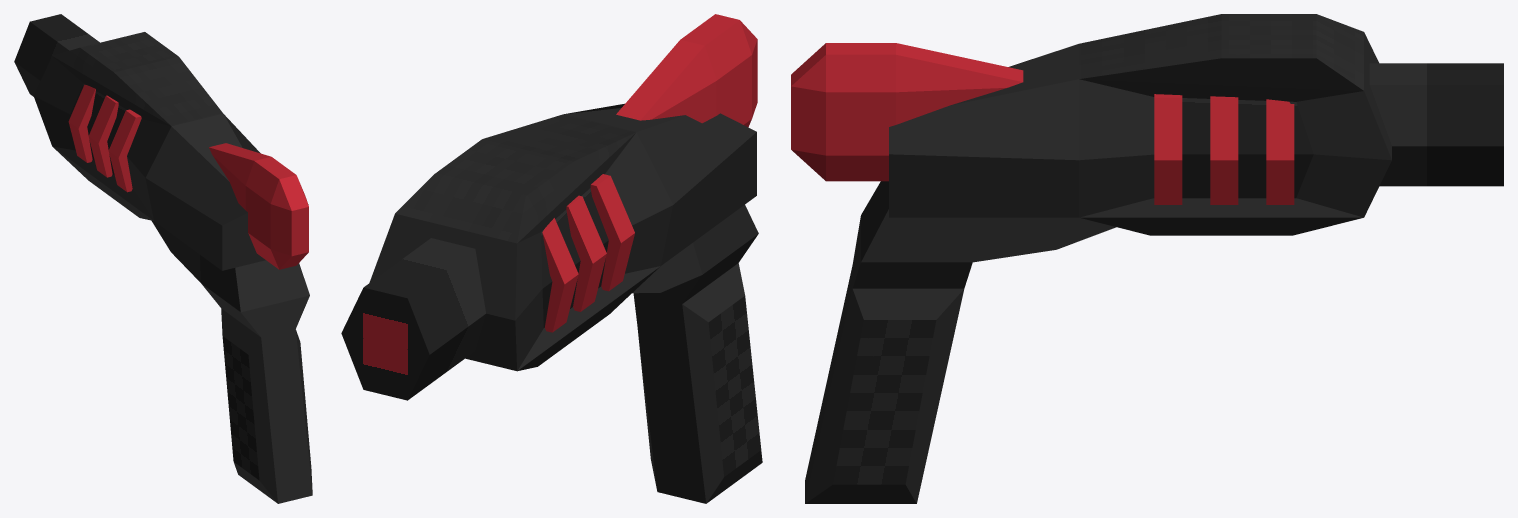
File: laser_pistol.gltf
3 views of the same model, side by side, from view 1: azimuth 30°, elevation 25°; view 2: azimuth 150°, elevation 25°; view 3: azimuth 270°, elevation 25° (orthographic). The views are drawn at different scales.
Parts seen in each view (by area): view 1: cuboid (×5), beveled_cuboid, cylinder; view 2: cuboid (×5), cylinder, beveled_cuboid; view 3: cuboid (×5), beveled_cuboid, cylinder.
Boxes of the visible parts, x1,y1,x2,y2 form: cuboid (×5): [33, 32, 312, 503]; beveled_cuboid: [209, 143, 308, 269]; cylinder: [14, 14, 99, 96]; cuboid (×5): [369, 103, 762, 503]; cylinder: [341, 238, 485, 400]; beveled_cuboid: [616, 14, 757, 127]; cuboid (×5): [805, 14, 1391, 503]; beveled_cuboid: [791, 43, 1023, 181]; cylinder: [1369, 63, 1503, 186].
Size of the model in its own units: 0.075 by 0.225 by 0.3188.
1 material, 1 textured.
